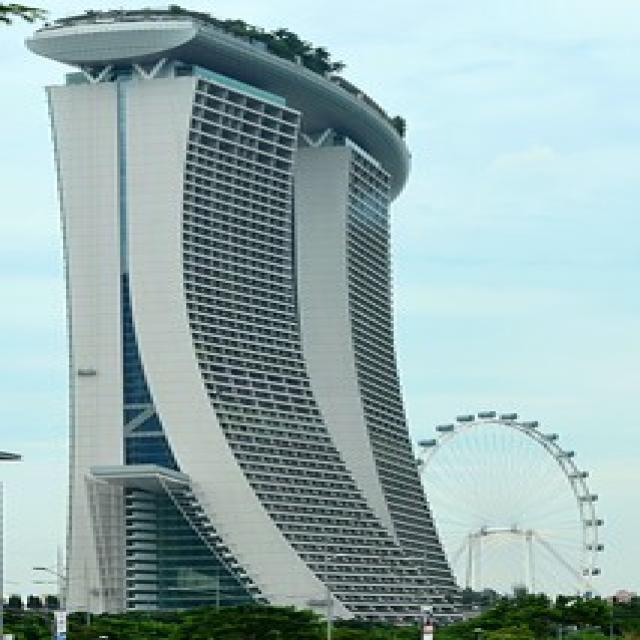building: (14, 4, 491, 634)
